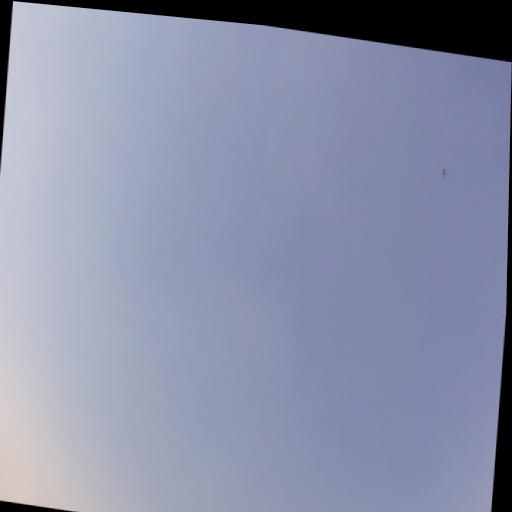drones: (438, 162, 449, 182)
